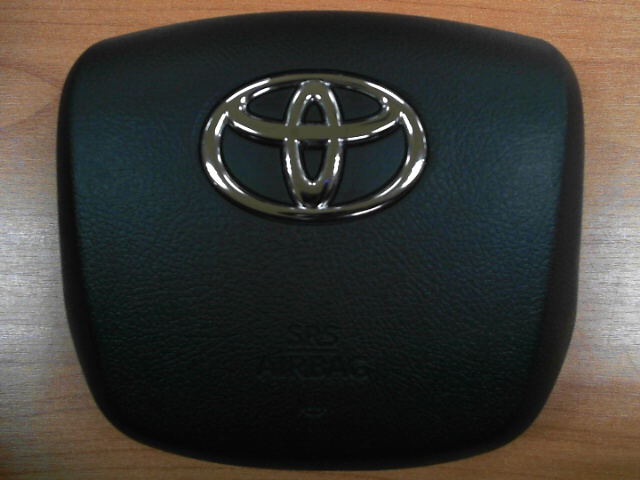AirbagV2: (59, 12, 579, 466)
